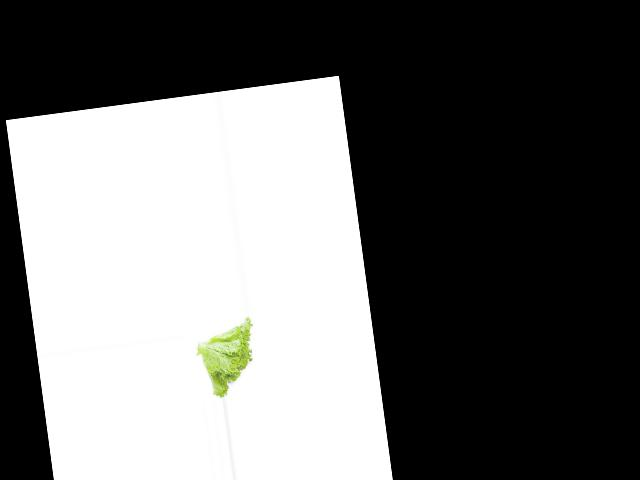lettuce: (194, 315, 263, 400)
